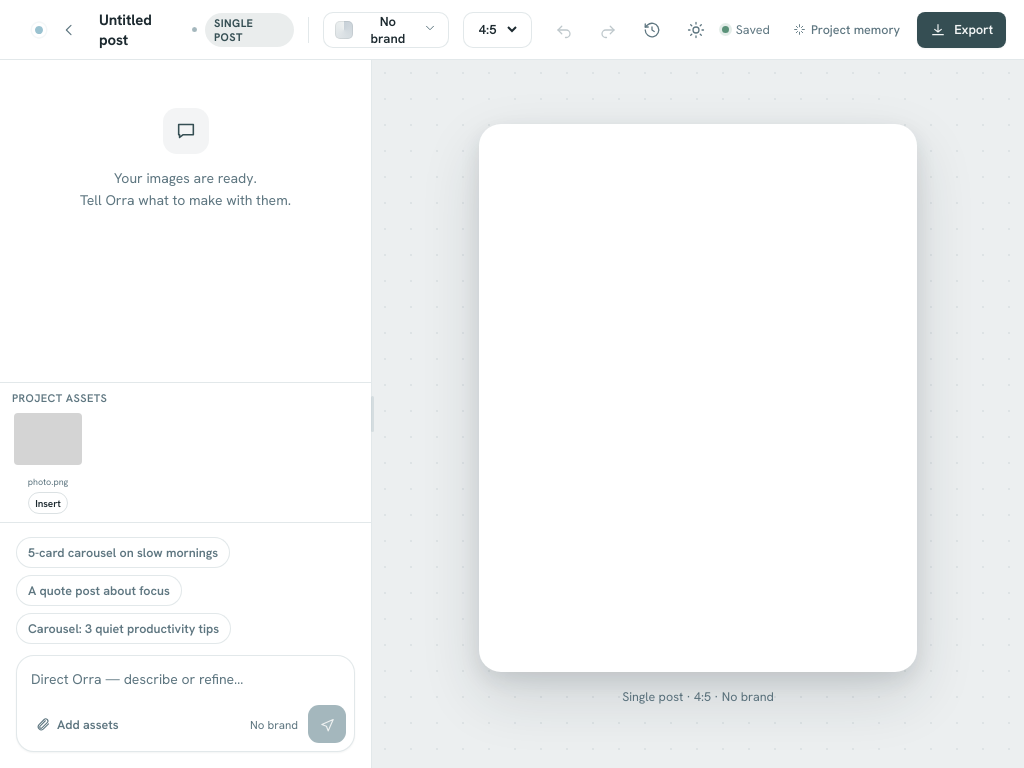
Test: WorkspacePage chat persistence › shows send error and restores input on failure
This screenshot has width=1024, height=768.
Type "Test message" into the text box with placeholder "Direct Orra — describe or refine…" at coordinates (186, 675), box x1=17 y1=656 x2=354 y2=694
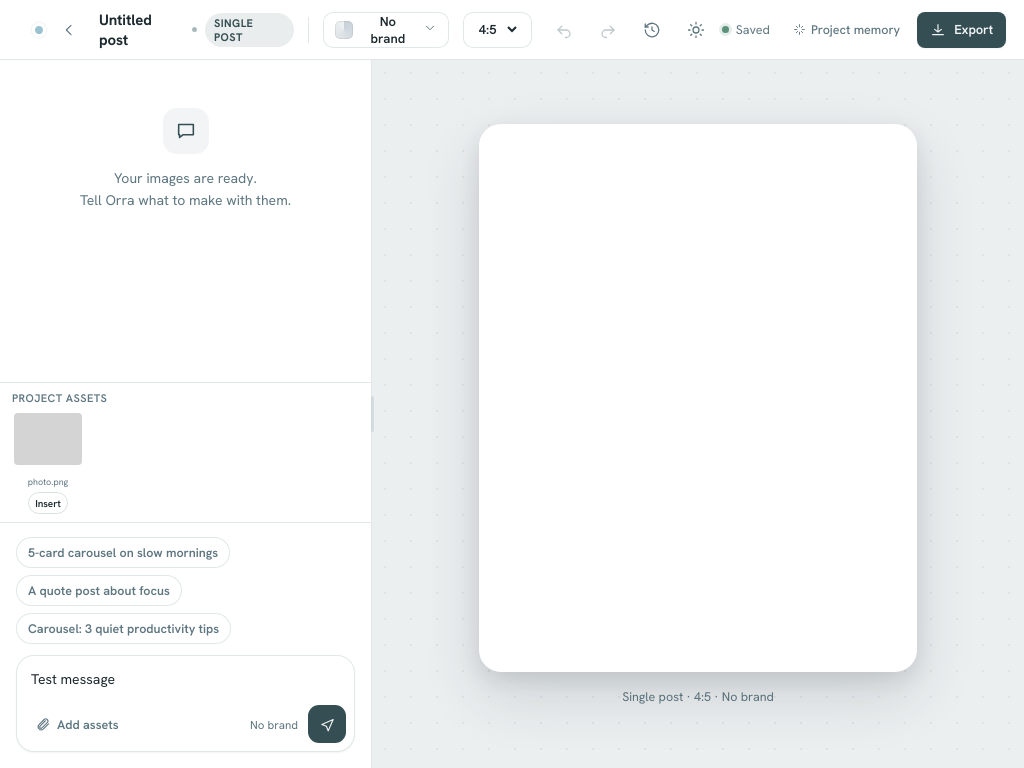
Click the button named "Send" at coordinates (327, 724), box x1=308 y1=705 x2=346 y2=743
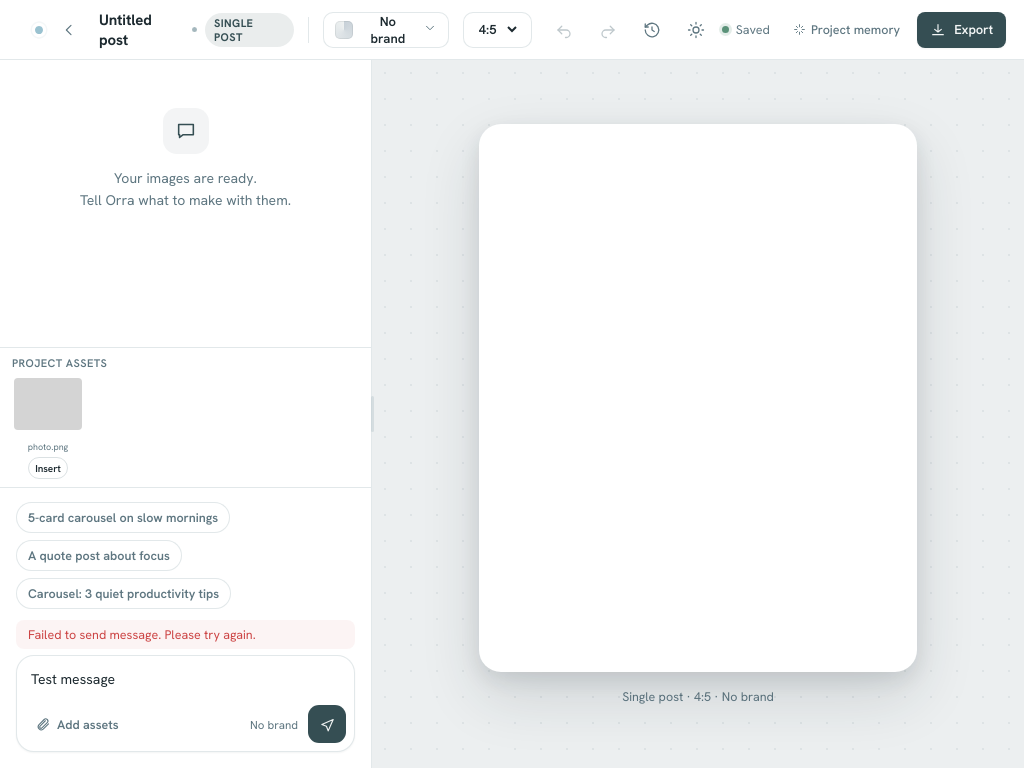
Now the text "Failed to send message. Please try again." is shown, box x1=16 y1=620 x2=355 y2=649
